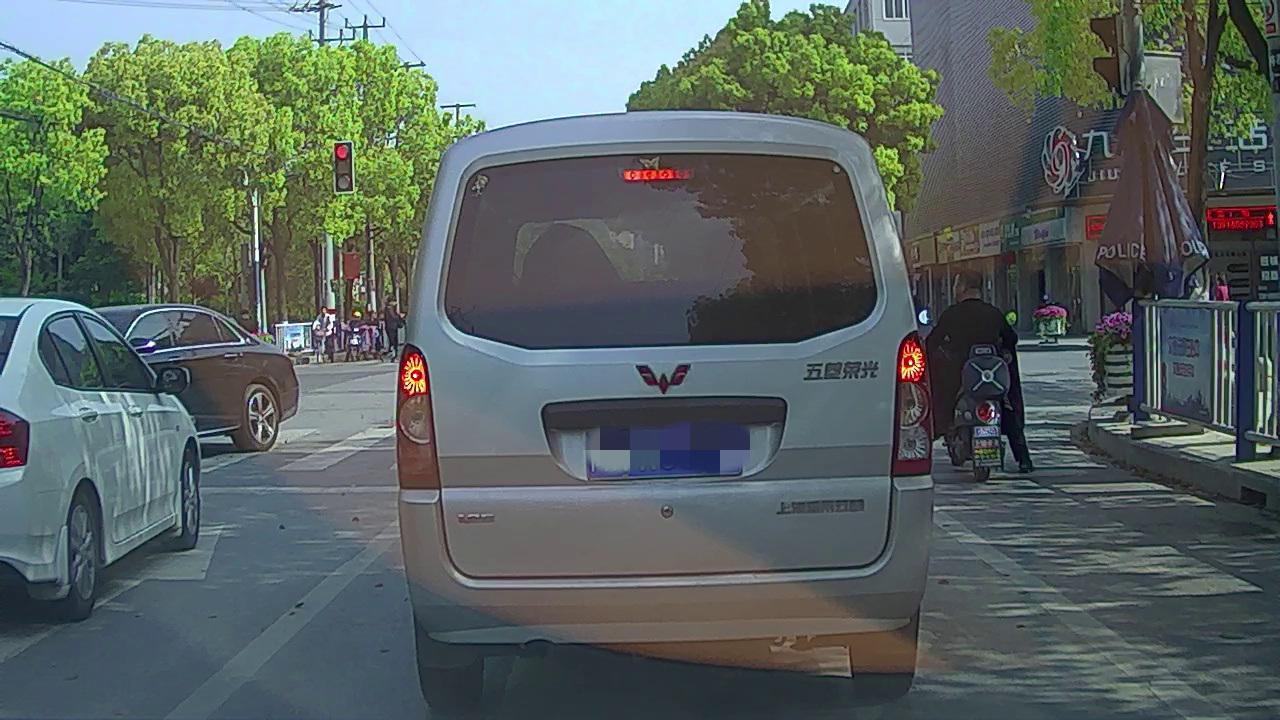traffic_light: (336, 142, 353, 191)
